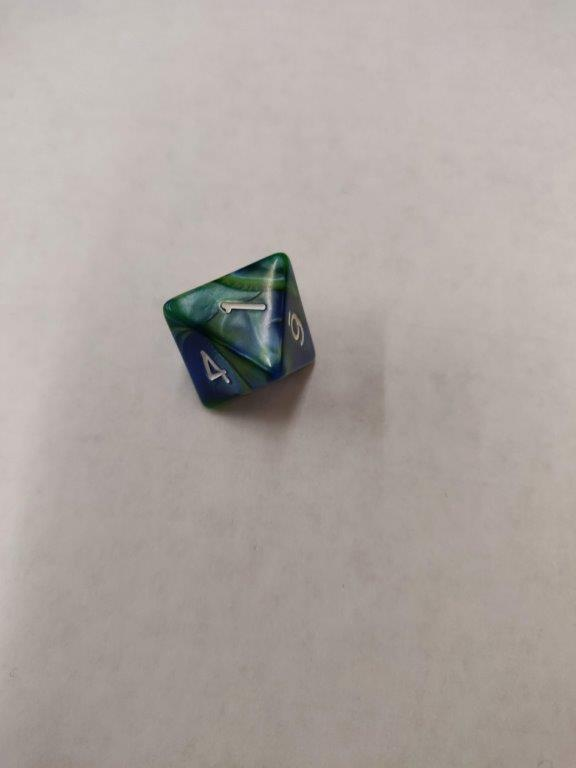d8-1: (163, 251, 320, 413)
